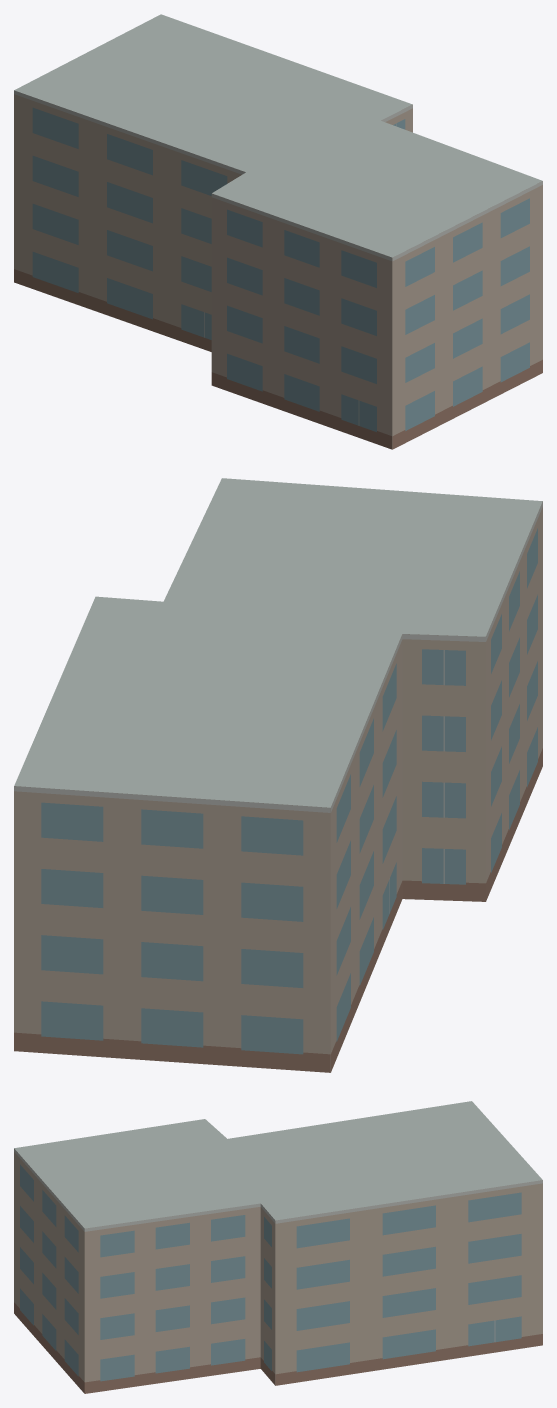
The model's file is survey-upis-32570717.glb.
3 renders of one model, top to bottom at view 1: azimuth 30°, elevation 25°; view 2: azimuth 150°, elevation 25°; view 3: azimuth 270°, elevation 25°, orthographic. The views are drawn at different scales.
Visible parts, largest first — view 1: survey-upis-32570717.tmp; view 2: survey-upis-32570717.tmp; view 3: survey-upis-32570717.tmp.
Part boxes in pixels (x1,y1,x2,y2): survey-upis-32570717.tmp: (14, 14, 542, 449); survey-upis-32570717.tmp: (14, 478, 542, 1072); survey-upis-32570717.tmp: (14, 1101, 542, 1393).
Bounding box in the file's own units: 20.21 × 12.2 × 35.38.
